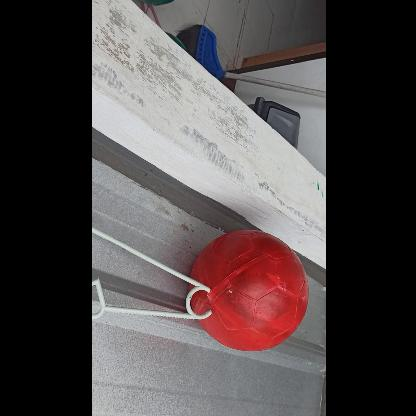red_ball: (185, 229, 309, 353)
